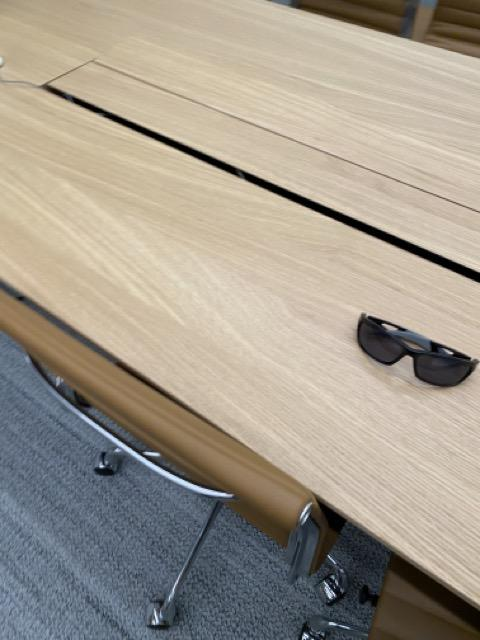Sunglasses: (354, 310, 480, 389)
